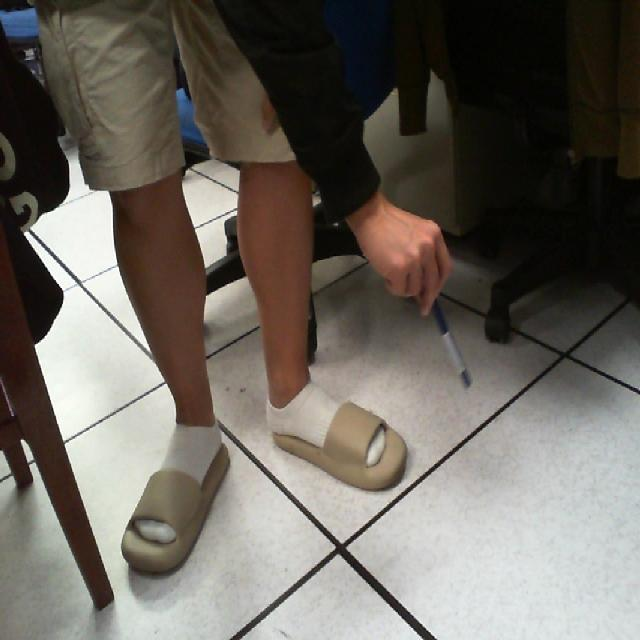Pen: (418, 274, 486, 406)
